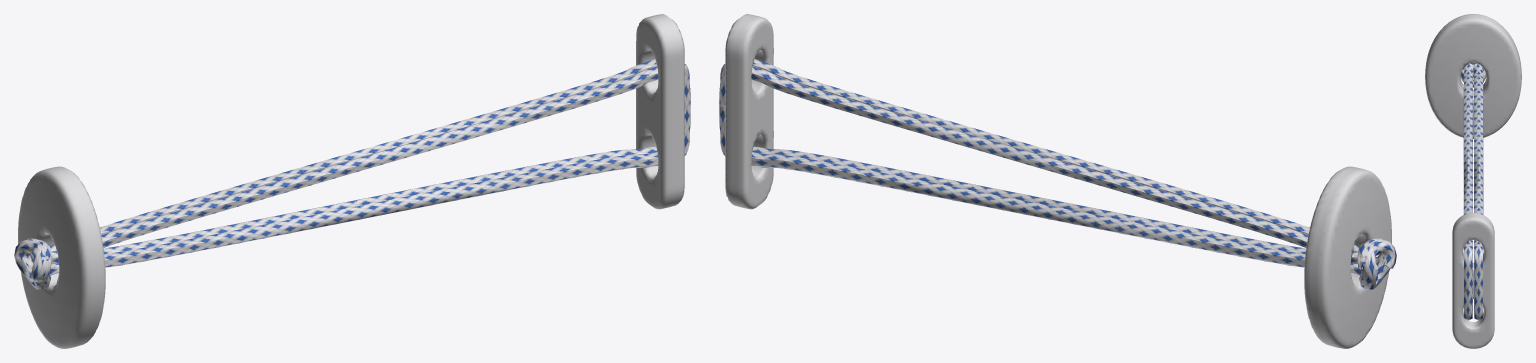
File: cwingbutton_lod1.glb
3 renders of one model, left to right at view 1: azimuth 30°, elevation 25°; view 2: azimuth 150°, elevation 25°; view 3: azimuth 270°, elevation 25°, orthographic. The views are drawn at different scales.
Visible parts, largest first — view 1: cwingbutton; view 2: cwingbutton; view 3: cwingbutton.
Boxes of the visible parts, x1,y1,x2,y2 form: cwingbutton: (14,14,690,348); cwingbutton: (719,14,1396,348); cwingbutton: (1425,14,1521,348).
Size of the model in its own units: 0.0443 by 0.012 by 0.008.
Materials: 2 (1 with a texture image).
